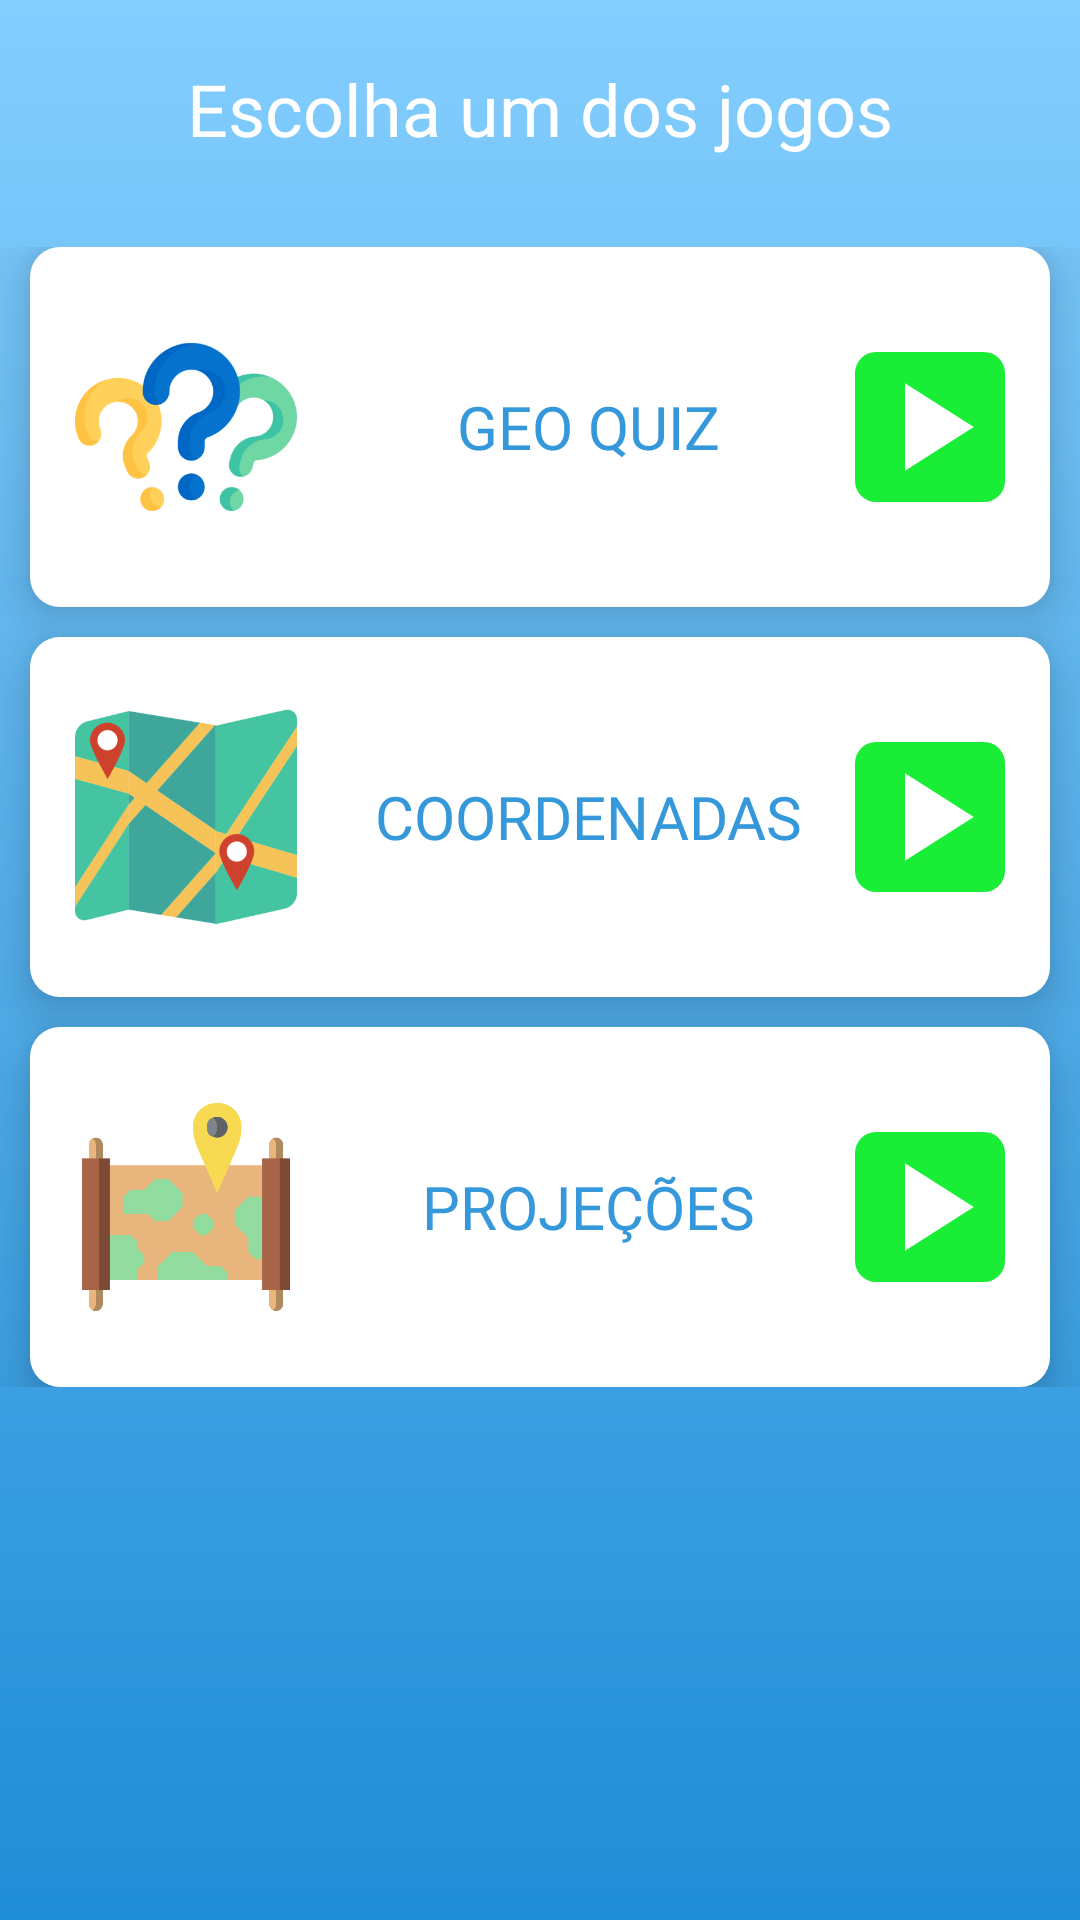

Named icons in this screenshot (1080px x 1920px) and their bounding boxes, [left=x1, top=y1, right=x2, bottom=y2]:
game map: [left=75, top=709, right=297, bottom=925]
game quiz: [left=75, top=343, right=297, bottom=511]
play: [left=855, top=352, right=1005, bottom=502], [left=855, top=742, right=1005, bottom=892], [left=855, top=1132, right=1005, bottom=1282]
